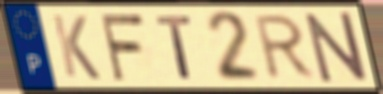2: (204, 8, 264, 86)
F: (96, 12, 147, 83)
K: (49, 12, 104, 82)
N: (302, 10, 371, 86)
R: (253, 13, 319, 82)
T: (153, 13, 196, 81)
